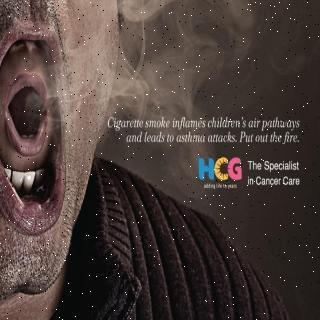smoke: (109, 0, 264, 98)
